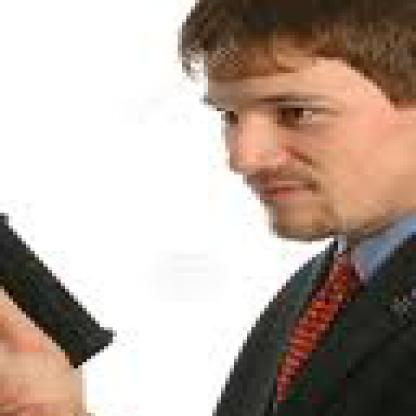gun: (0, 200, 135, 404)
